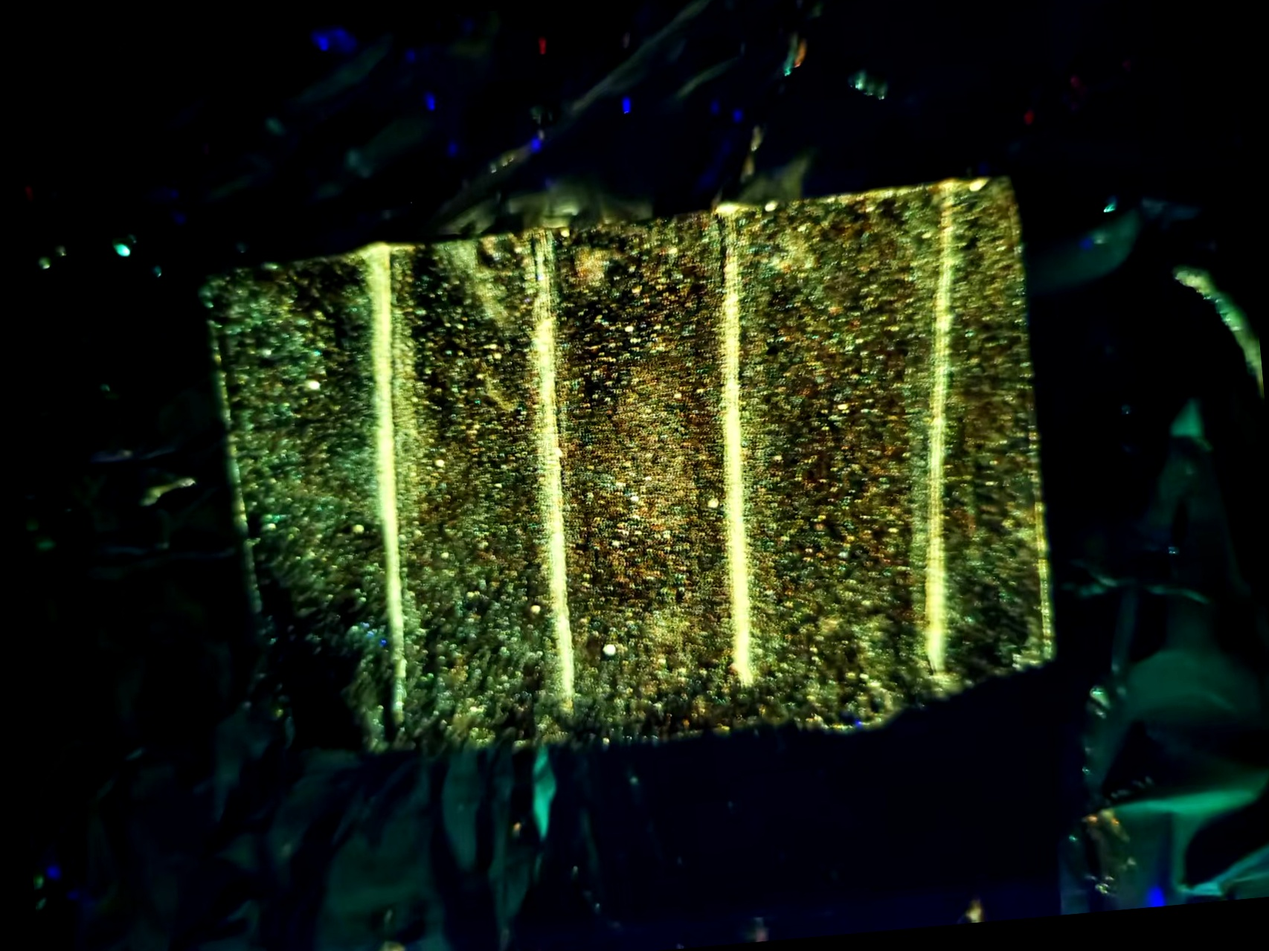Fissure: (860, 179, 1025, 690), (484, 217, 632, 727), (320, 239, 462, 740), (675, 218, 794, 699)
